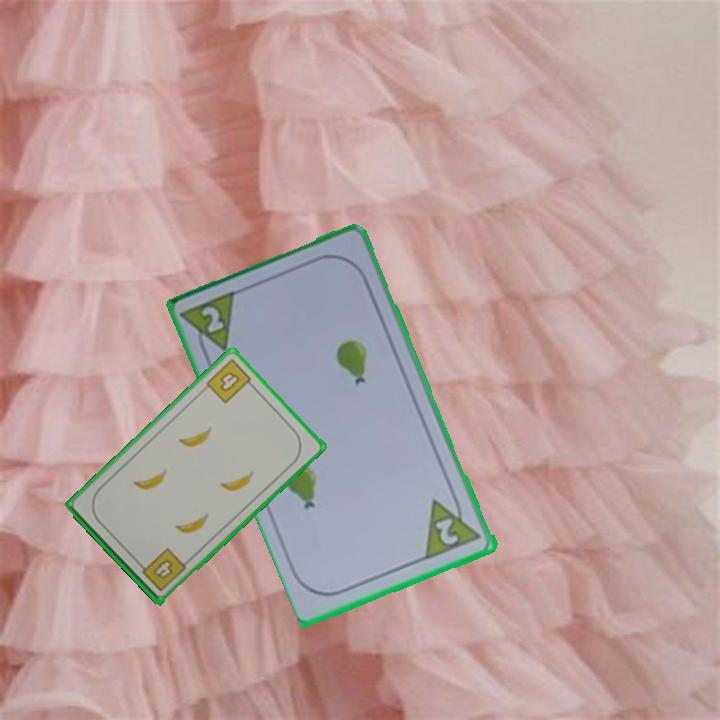2p: (179, 286, 242, 364), (432, 515, 462, 549)
4b: (202, 355, 258, 406), (134, 544, 189, 594)
